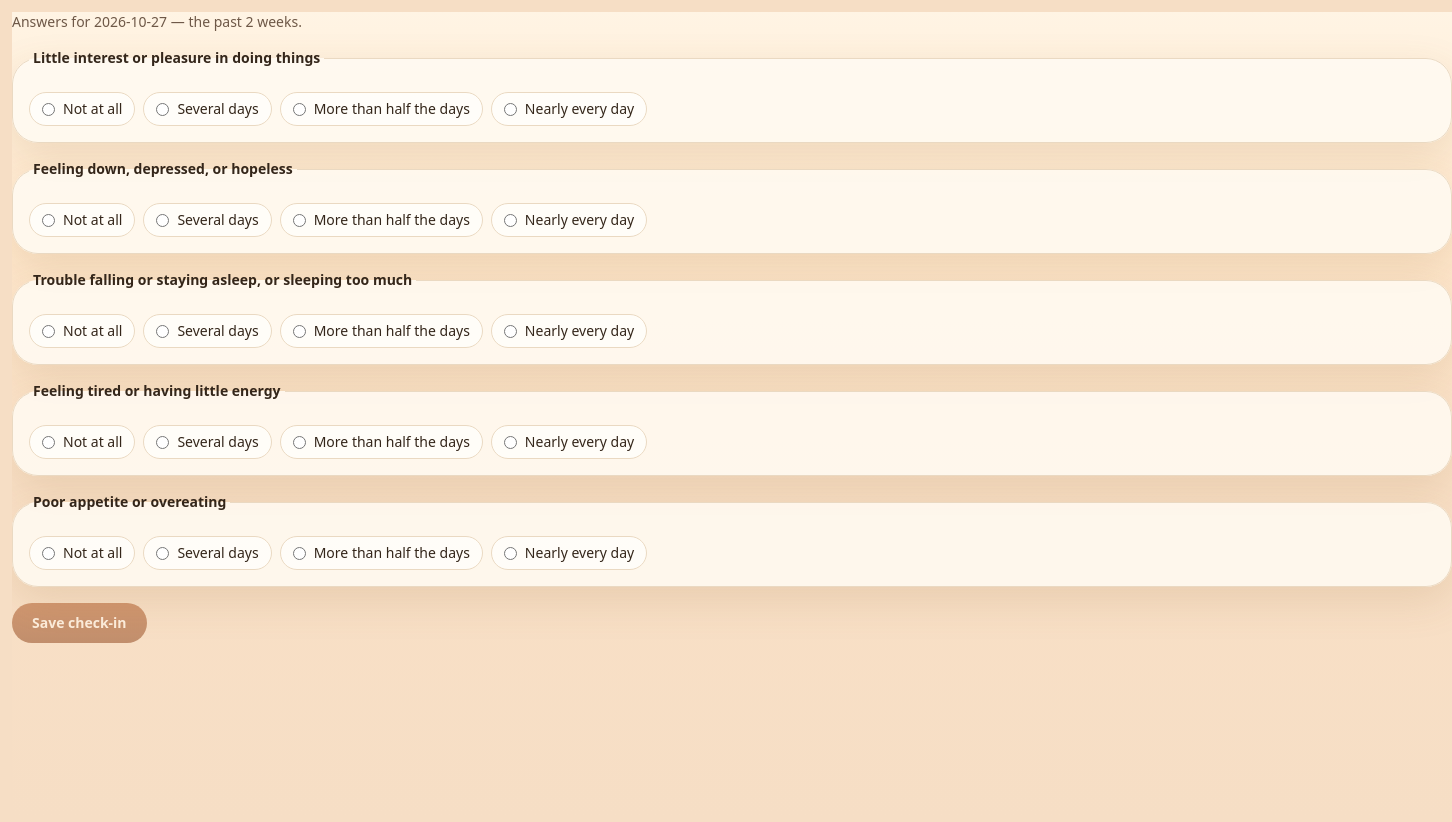
CheckInForm error notices › shows a check-in-specific notice for a 503
Click the 1st radio button labelled "Not at all": point(48, 109) [42,102,55,116]
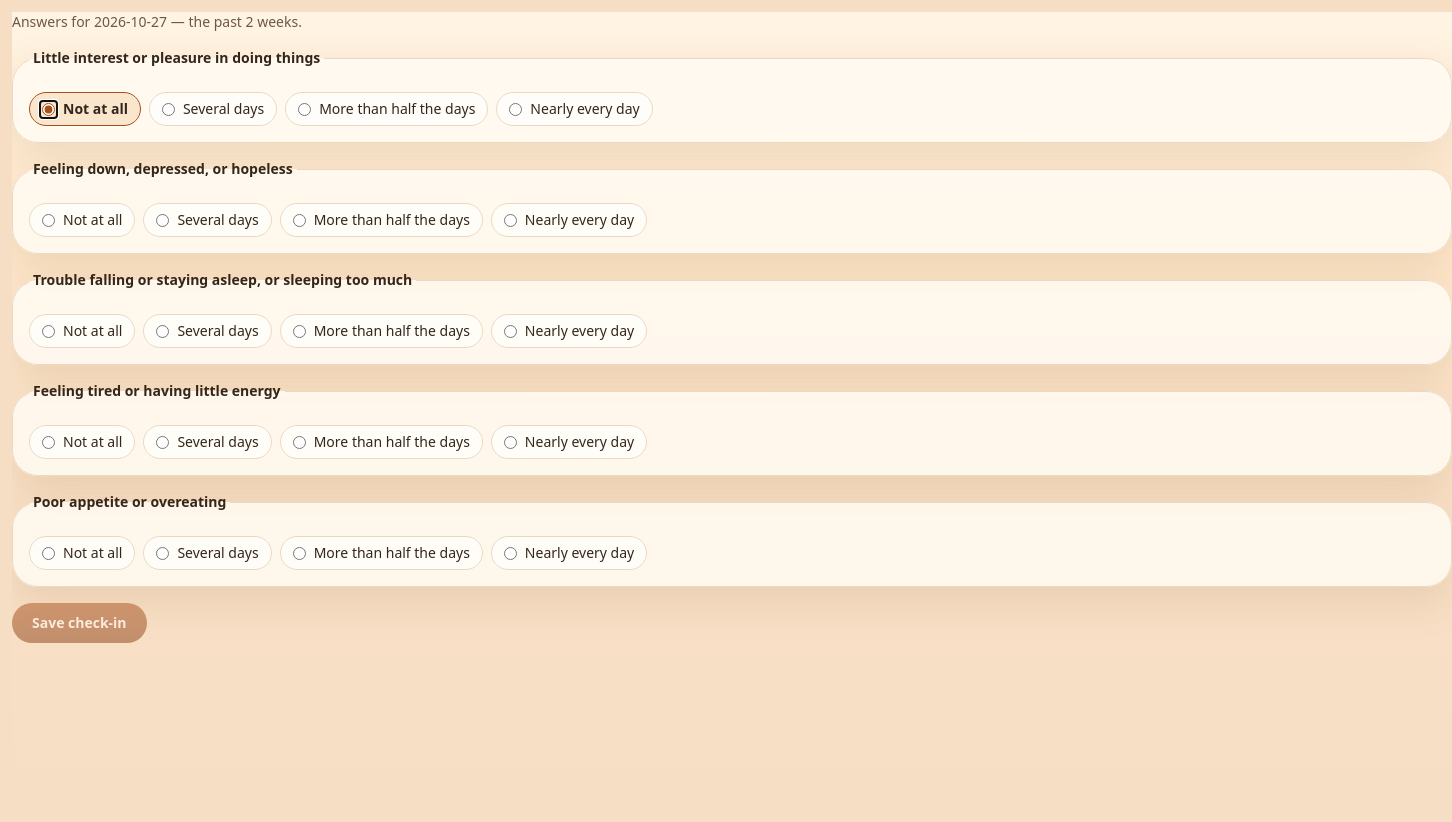
Click the radio button labelled "Not at all" below "Feeling down, depressed, or hopeless": point(48, 220) [42,214,55,226]
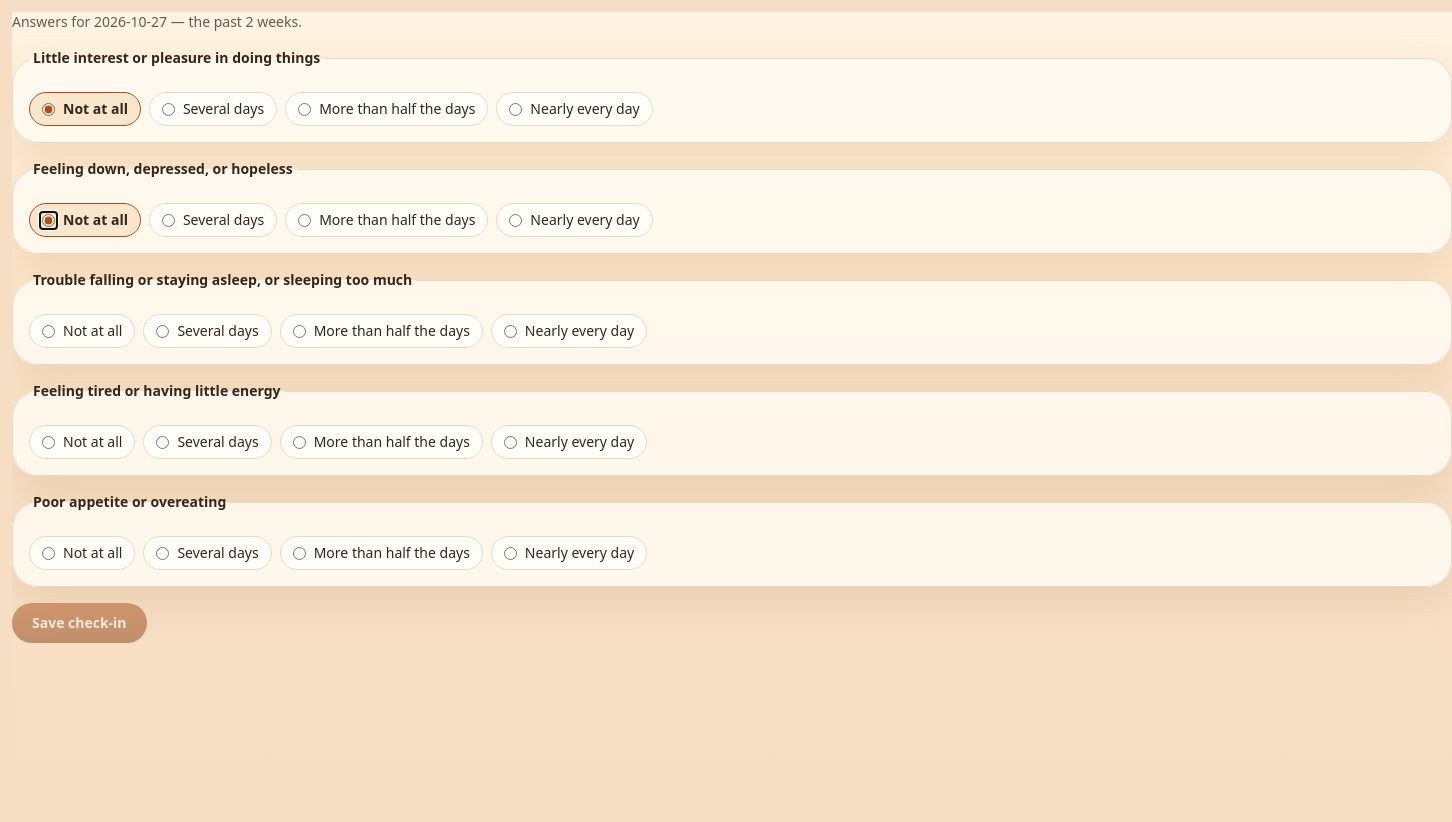
Click the 3rd radio button labelled "Not at all": point(48, 331) [42,324,55,338]
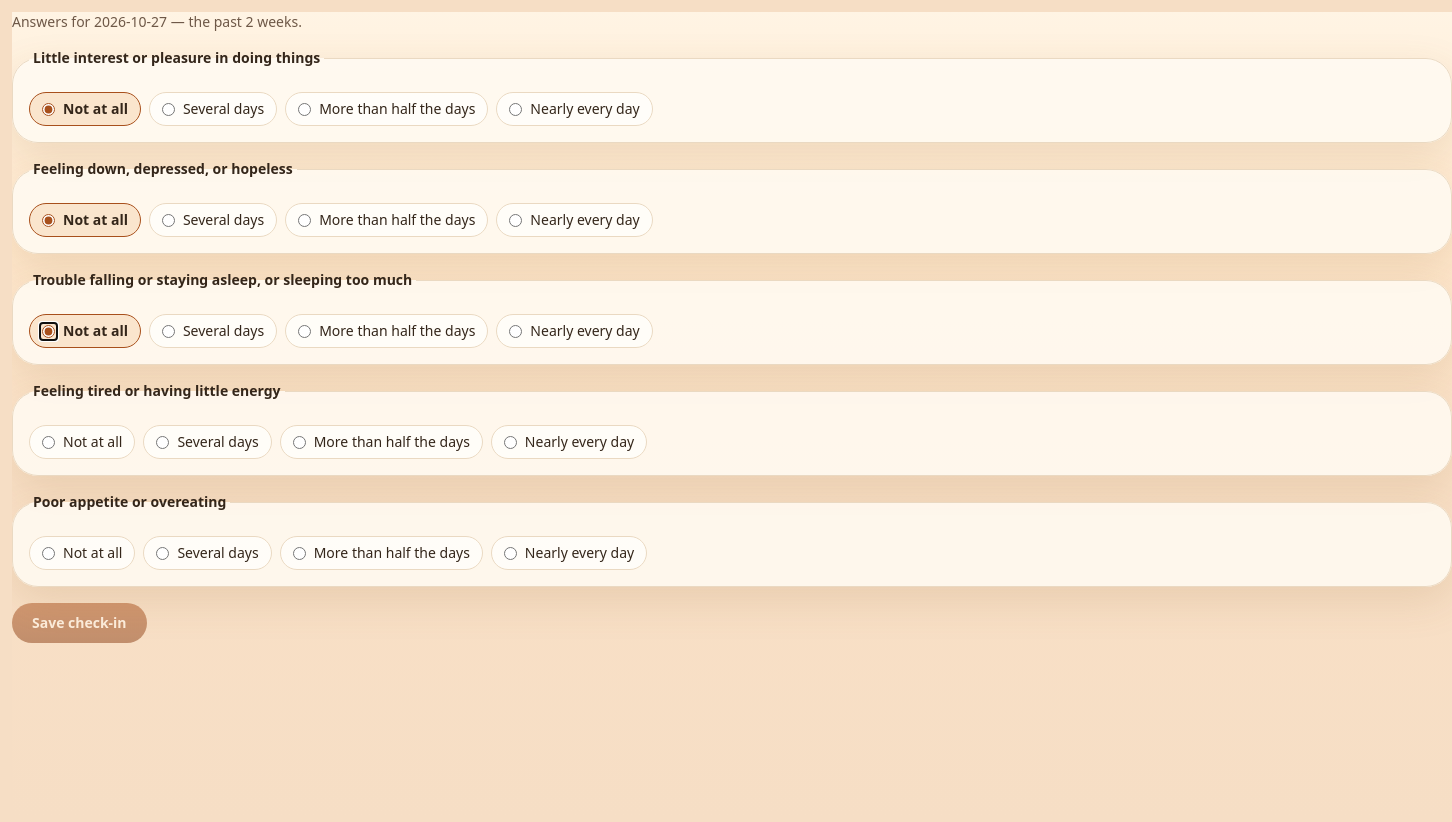
Click the radio button labelled "Not at all" below "Feeling tired or having little energy": point(48, 442) [42,436,55,448]
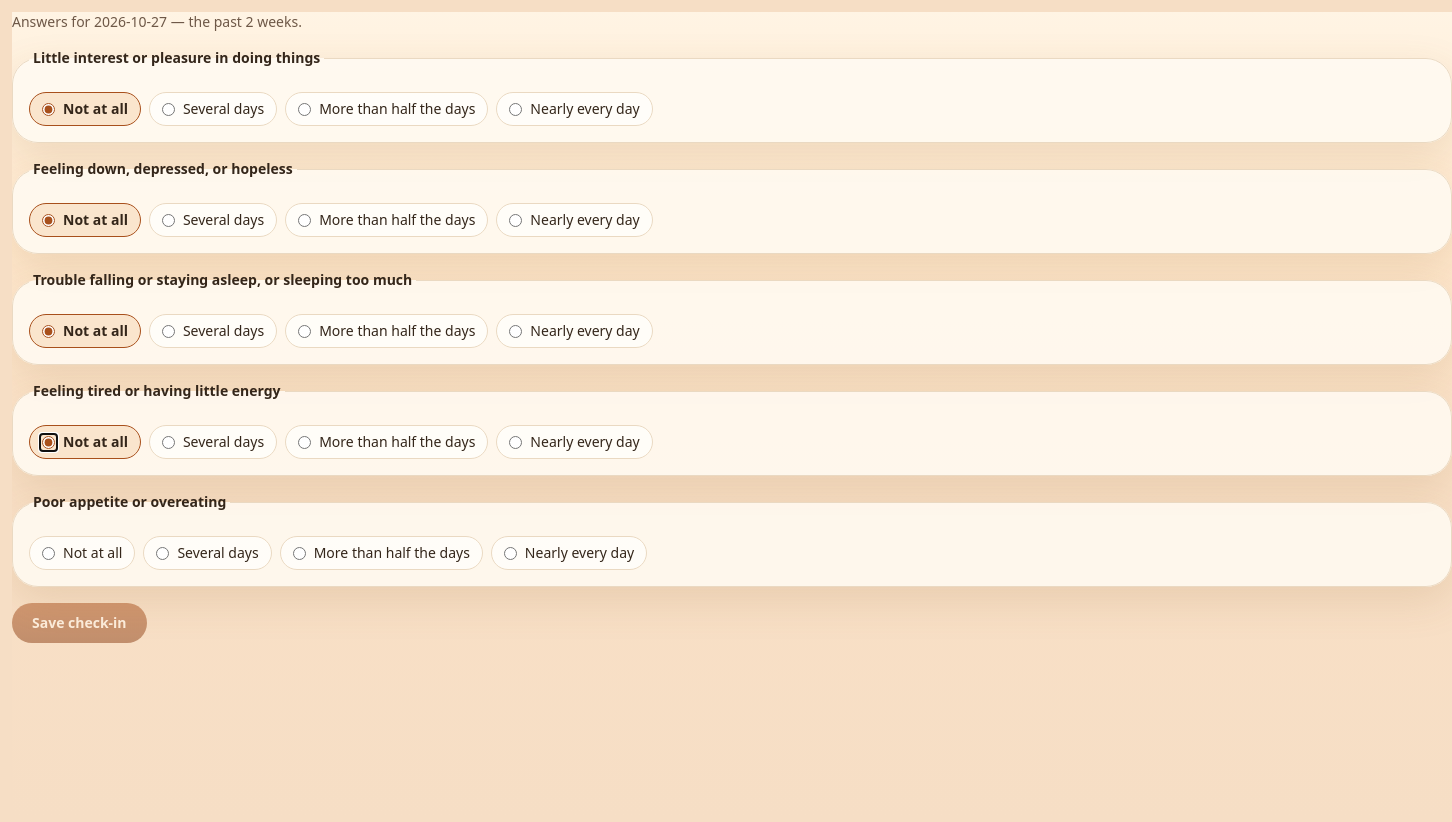
Click the radio button labelled "Not at all" below "Poor appetite or overeating": point(48, 553) [42,546,55,560]
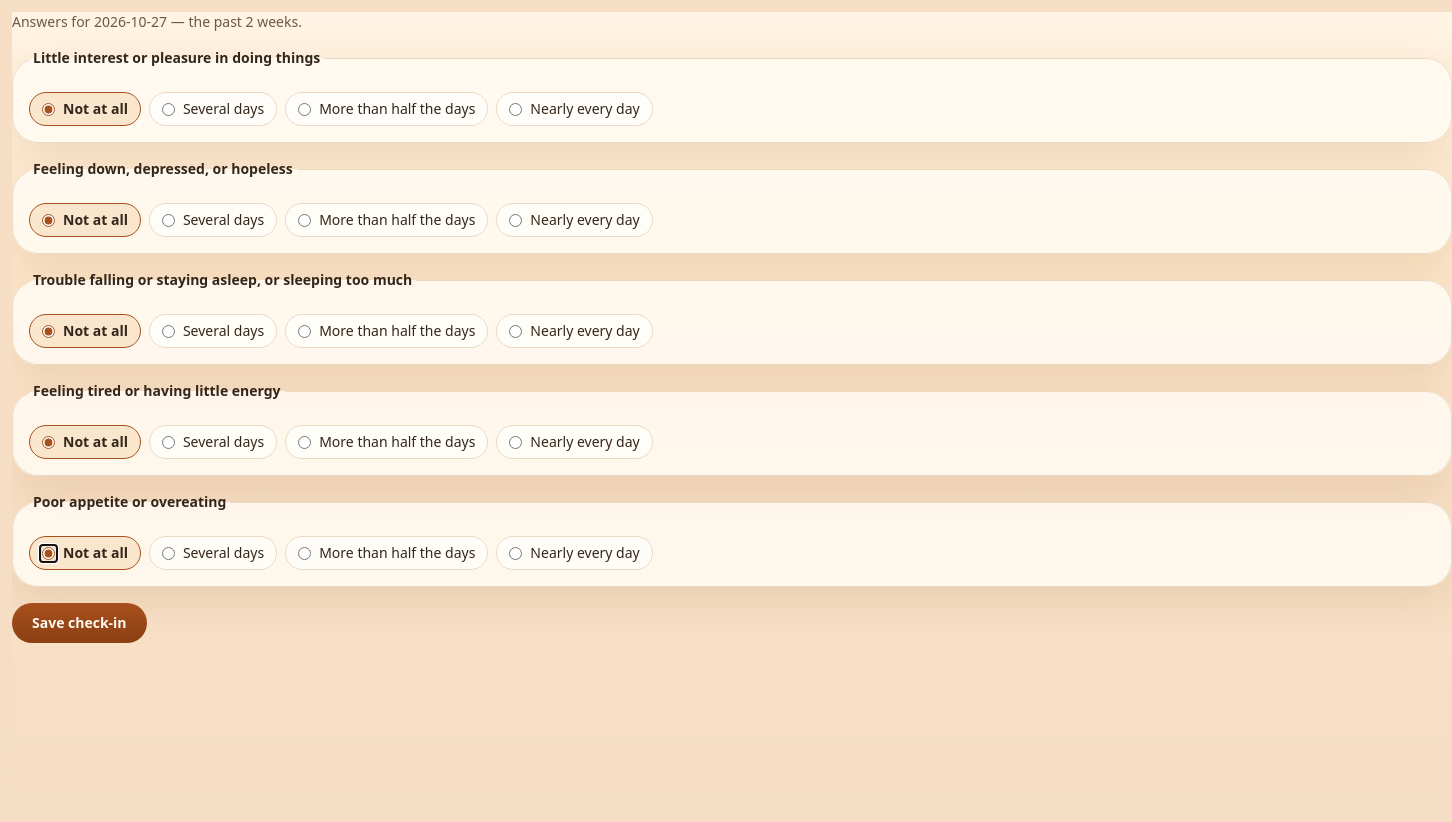
Click the button "Save check-in": point(79, 623) [12,603,147,643]
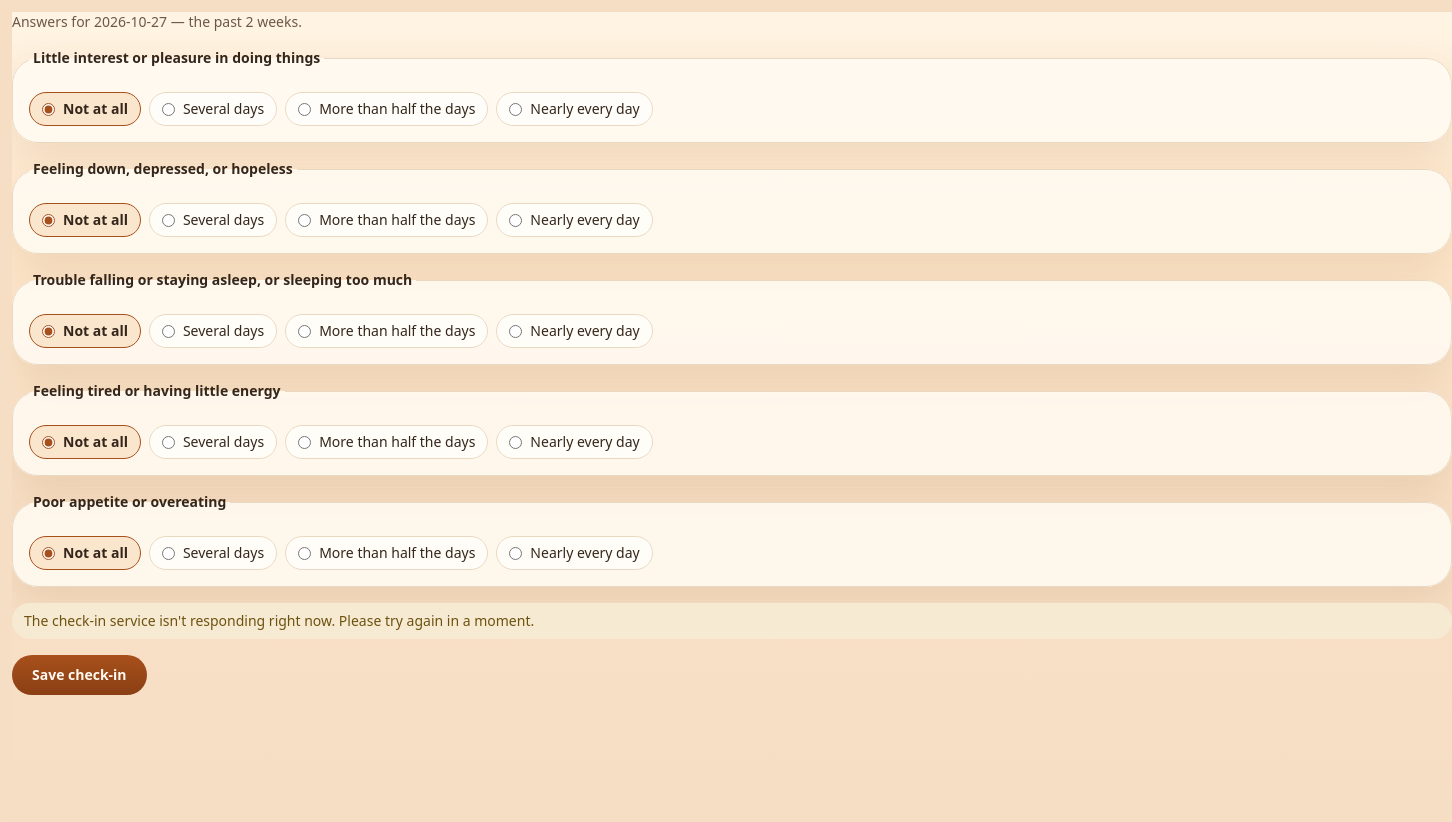
Now the message shows "service", box [24,611,534,630]
Now the message shows "try again", box [24,611,534,630]
